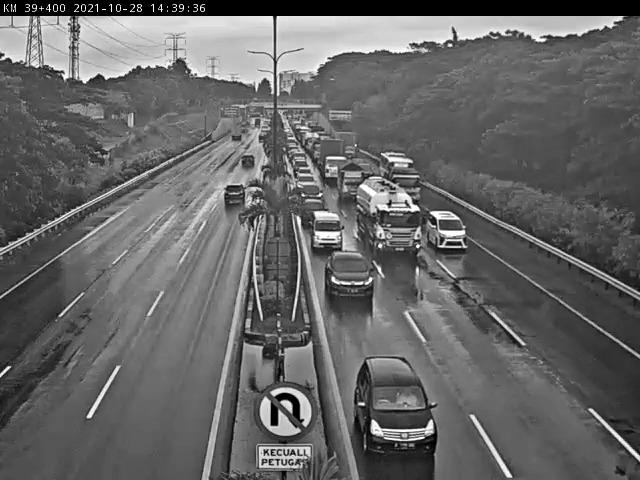big bus: (379, 151, 415, 182)
big truck: (359, 181, 416, 247)
car: (352, 338, 438, 469), (321, 239, 374, 296), (414, 207, 458, 239), (311, 208, 341, 249), (213, 190, 251, 214), (301, 192, 330, 222), (238, 144, 266, 174), (334, 166, 357, 193), (299, 182, 323, 201), (238, 154, 255, 176), (298, 171, 318, 184)
small truck: (380, 168, 418, 200), (320, 142, 350, 179)
